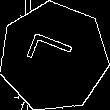L_E: (25, 33, 83, 81)
